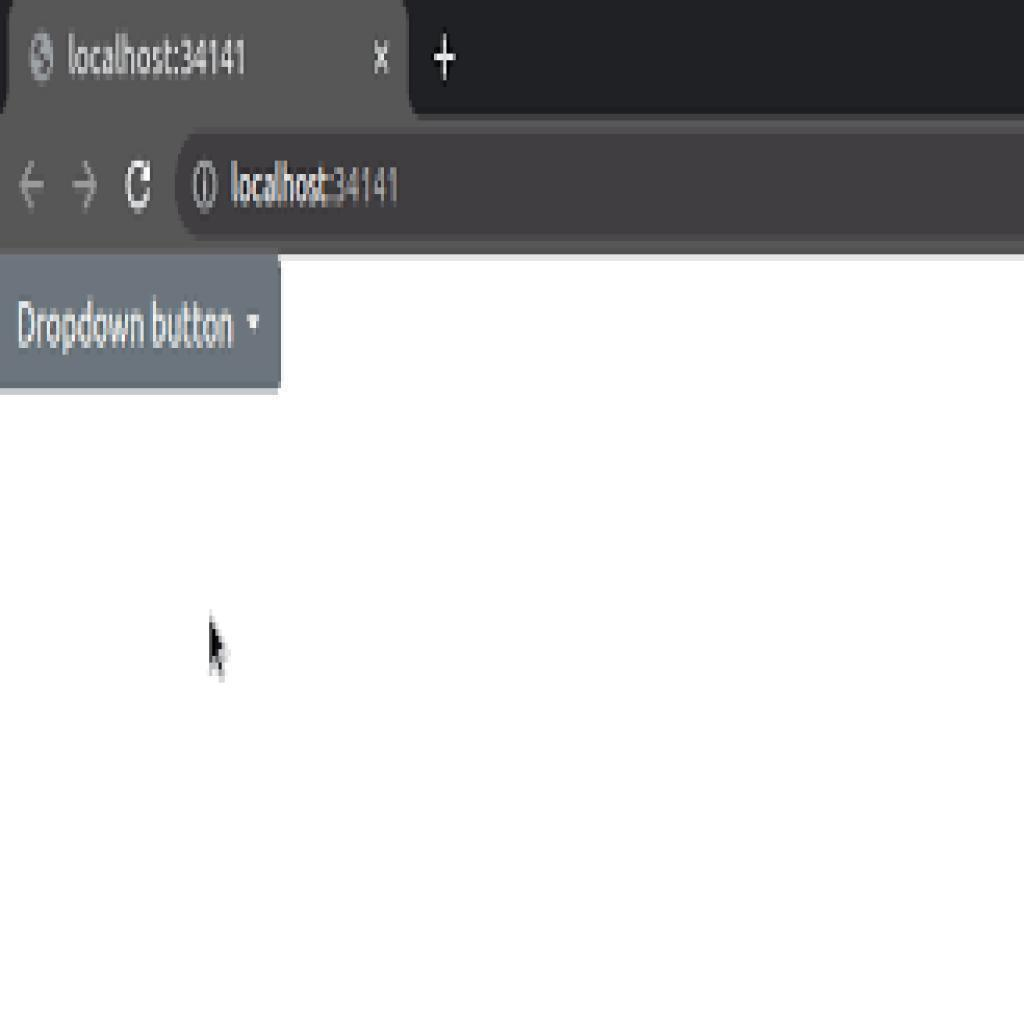dropdown: (0, 251, 281, 388)
icon: (124, 157, 152, 216), (190, 160, 219, 216), (69, 161, 100, 213), (17, 160, 46, 215), (431, 33, 459, 83)
